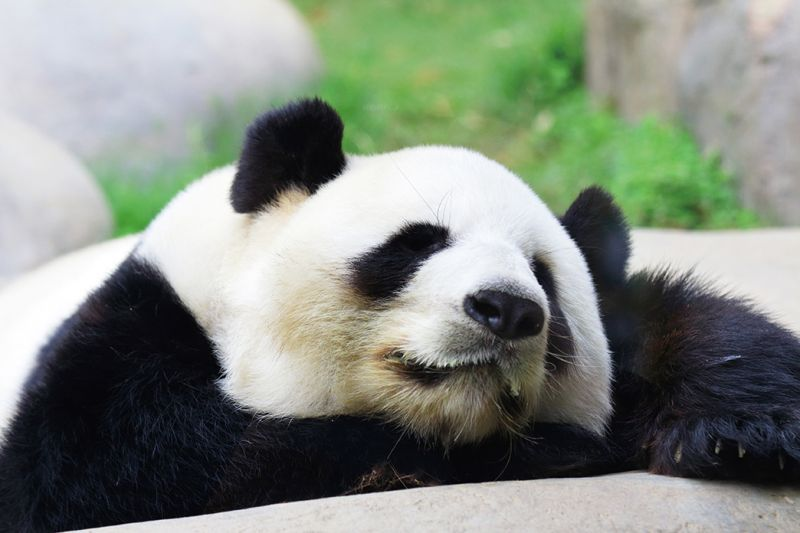panda: (1, 92, 800, 531)
